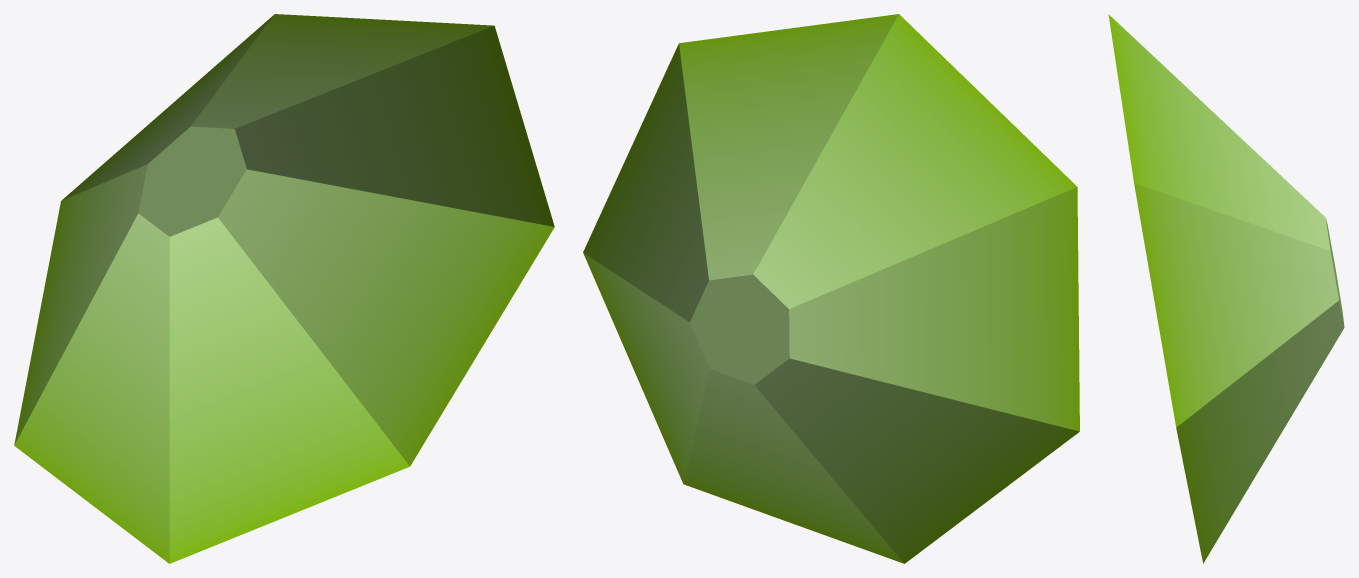
The model's file is IglooStageLight_frame01_0.glb.
3 views of the same model, side by side, from view 1: azimuth 30°, elevation 25°; view 2: azimuth 150°, elevation 25°; view 3: azimuth 270°, elevation 25° (orthographic). The views are drawn at different scales.
Visible parts, largest first — view 1: IglooStageLight_frame01; view 2: IglooStageLight_frame01; view 3: IglooStageLight_frame01.
Part boxes in pixels (box(x1,y1,x2,y2)): IglooStageLight_frame01: box(14, 14, 554, 563); IglooStageLight_frame01: box(583, 14, 1079, 563); IglooStageLight_frame01: box(1108, 14, 1344, 563).
Size of the model in its own units: 0.659 by 0.6538 by 0.2804.
